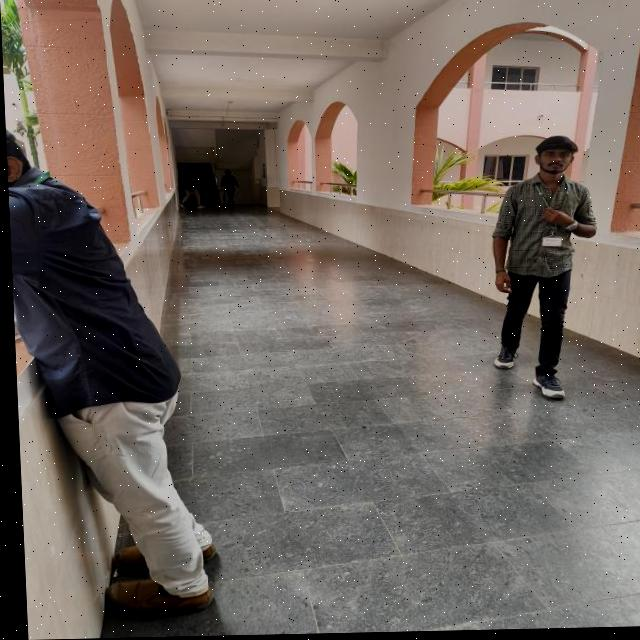id_card: (526, 193, 571, 253)
